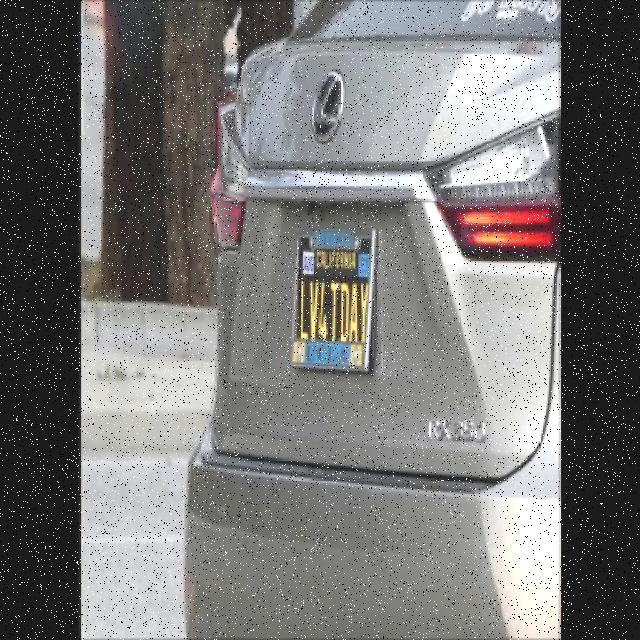licenseplate: (292, 234, 374, 369)
